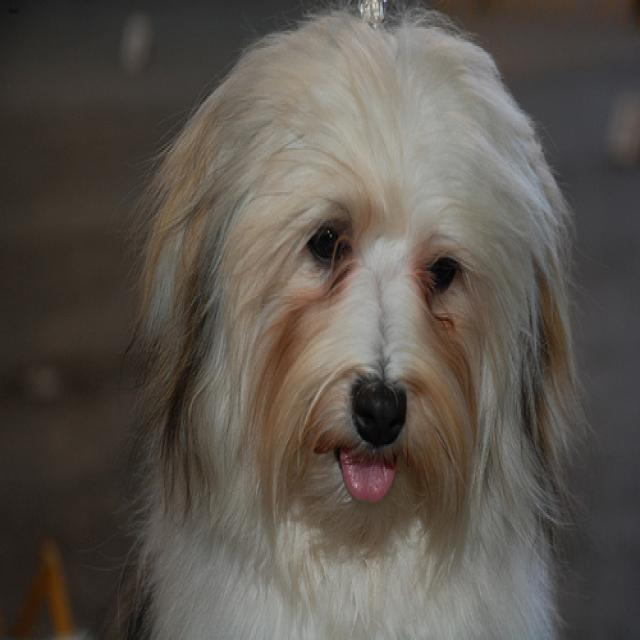dog-havanese: (96, 2, 599, 636)
